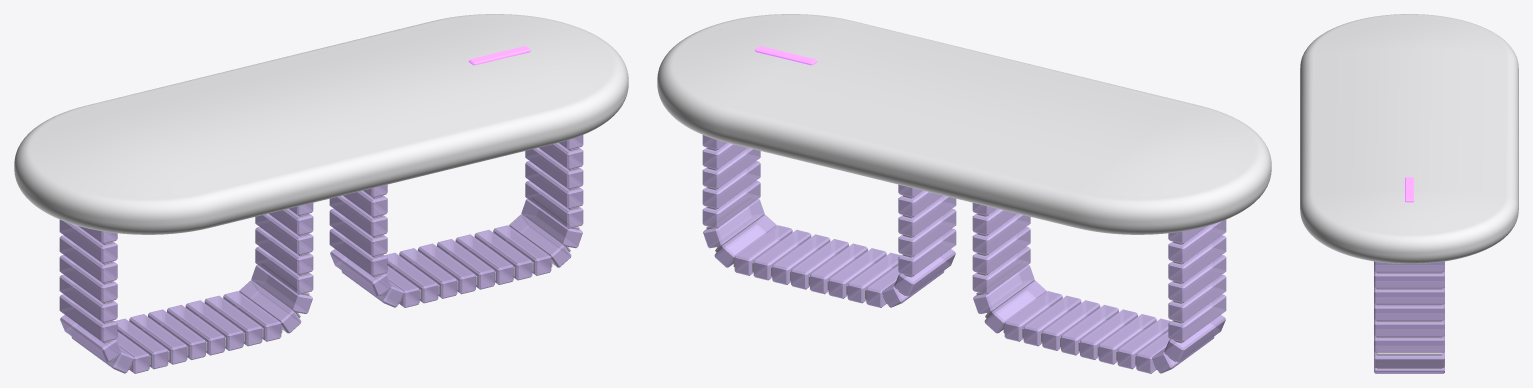
The model's file is echo_ring.glb.
3 views of the same model, side by side, from view 1: azimuth 30°, elevation 25°; view 2: azimuth 150°, elevation 25°; view 3: azimuth 270°, elevation 25° (orthographic). The views are drawn at different scales.
Visible parts, largest first — view 1: plate, band, pins; view 2: plate, band, pins; view 3: plate, band, pins, led.
Part boxes in pixels (box(x1,y1,x2,y2)): plate: box(14, 14, 628, 234); band: box(59, 135, 583, 373); pins: box(103, 147, 579, 370); plate: box(657, 14, 1271, 234); band: box(702, 135, 1226, 373); pins: box(706, 147, 1182, 370); plate: box(1300, 14, 1518, 263); band: box(1374, 261, 1444, 373); pins: box(1376, 272, 1442, 368); led: box(1405, 177, 1413, 202).
Bounding box in the file's own units: 0.06 × 0.0208 × 0.024.
